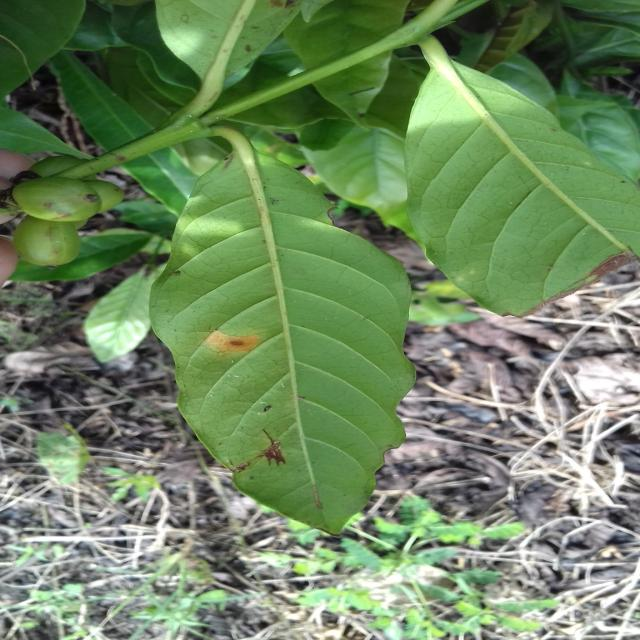Enfermedad-Roya: (150, 131, 416, 537)
